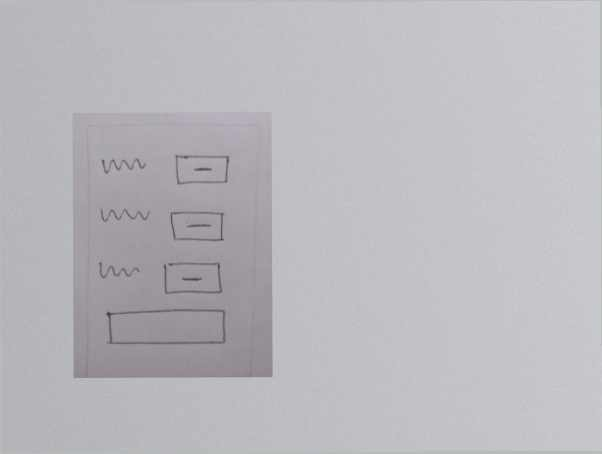button: (160, 259, 226, 299), (169, 149, 232, 190), (167, 208, 228, 245)
text: (95, 204, 152, 228), (95, 153, 149, 177), (96, 258, 143, 283)
text_input: (99, 304, 230, 352)
